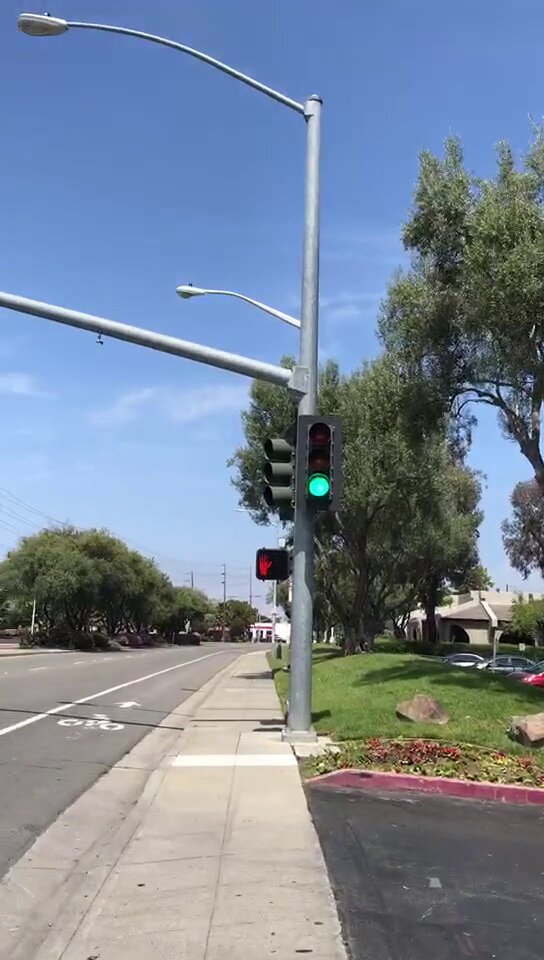green_light: (302, 418, 340, 503)
